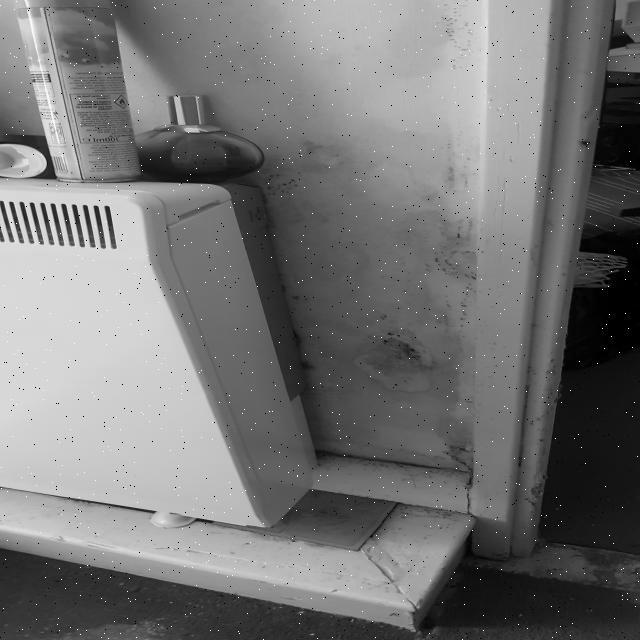stain marks: (262, 117, 488, 500), (348, 2, 498, 88)
